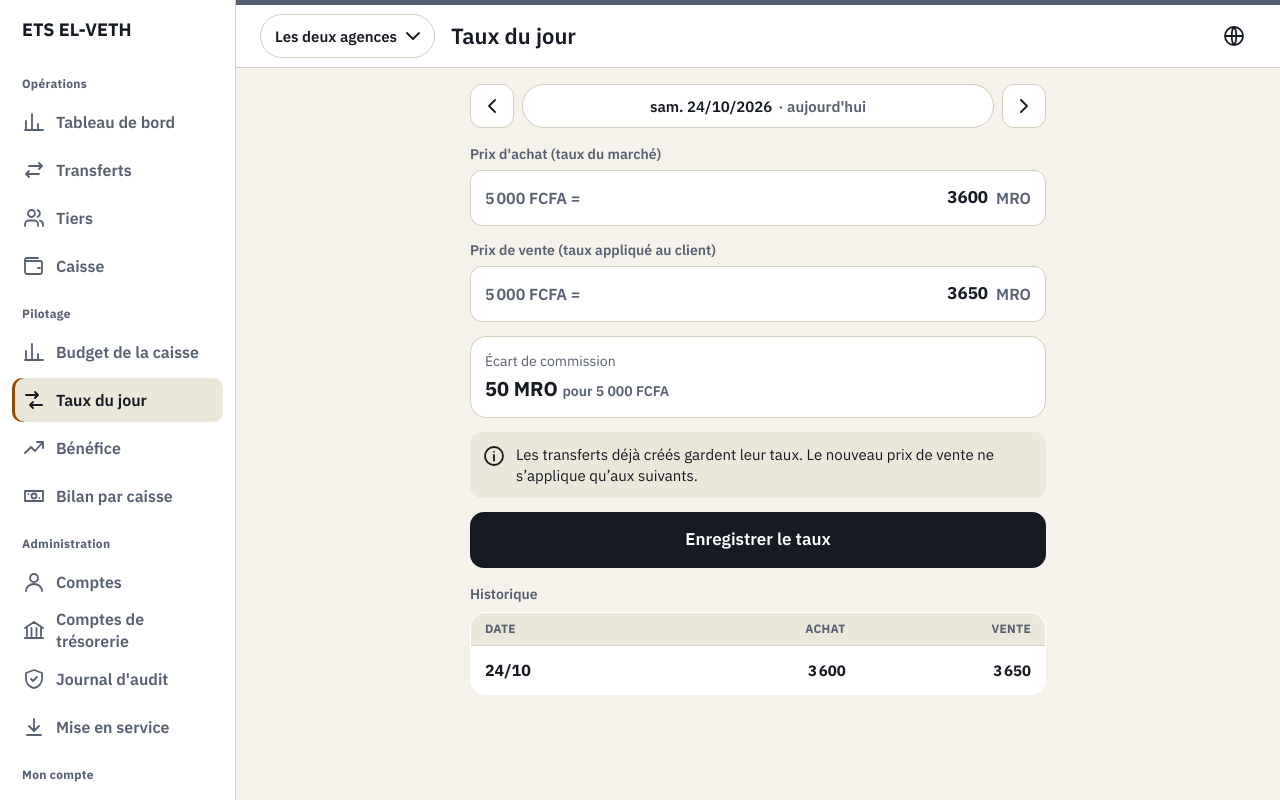
Test: Taux du jour — Superviseur › avertit sans bloquer quand le prix de vente est inférieur au prix d’achat
This screenshot has width=1280, height=800.
Replace the text in the field labelled "Prix de vente (taux appliqué au client)" with "3550": (788, 294) [588, 268, 988, 320]
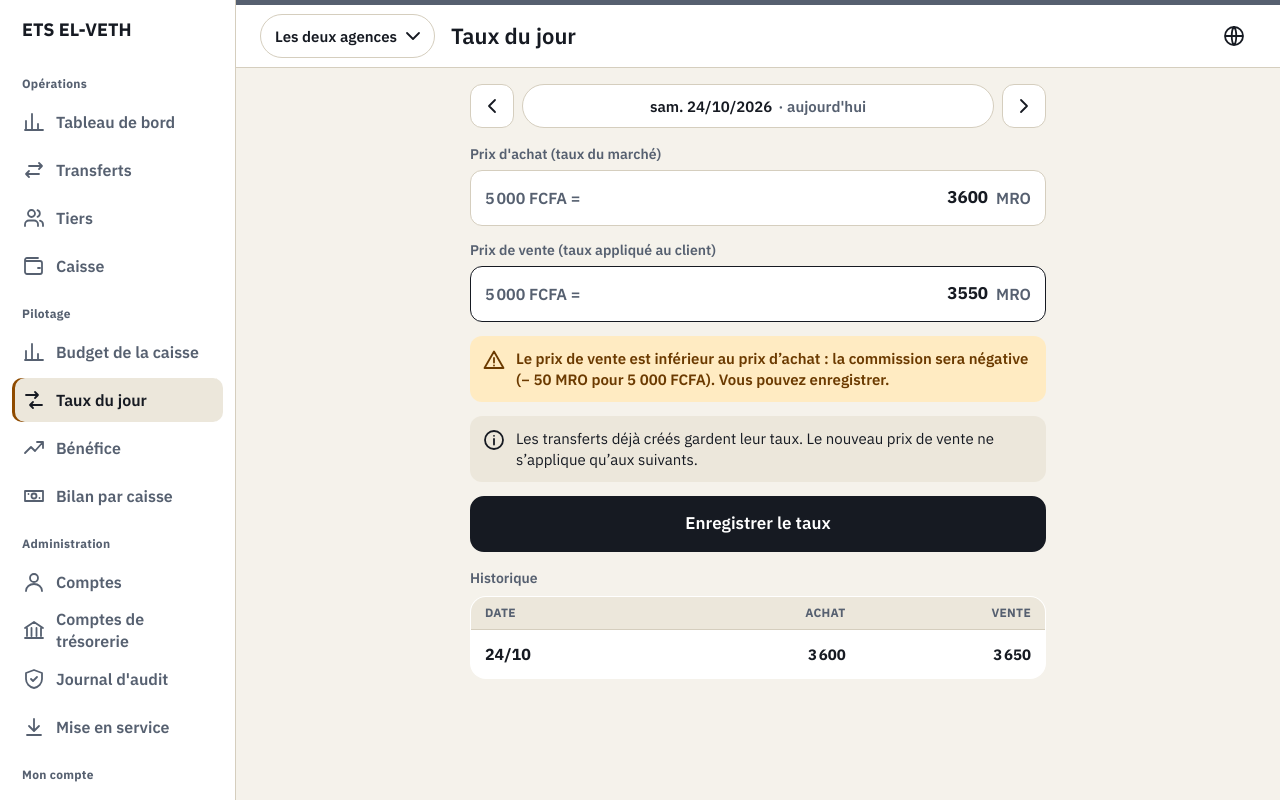
Result: the text "la commission sera négative (− 50 MRO pour 5 000 FCFA)" is shown at [516, 349, 1028, 389]
Click the button "Enregistrer le taux": (758, 524) [470, 496, 1046, 552]
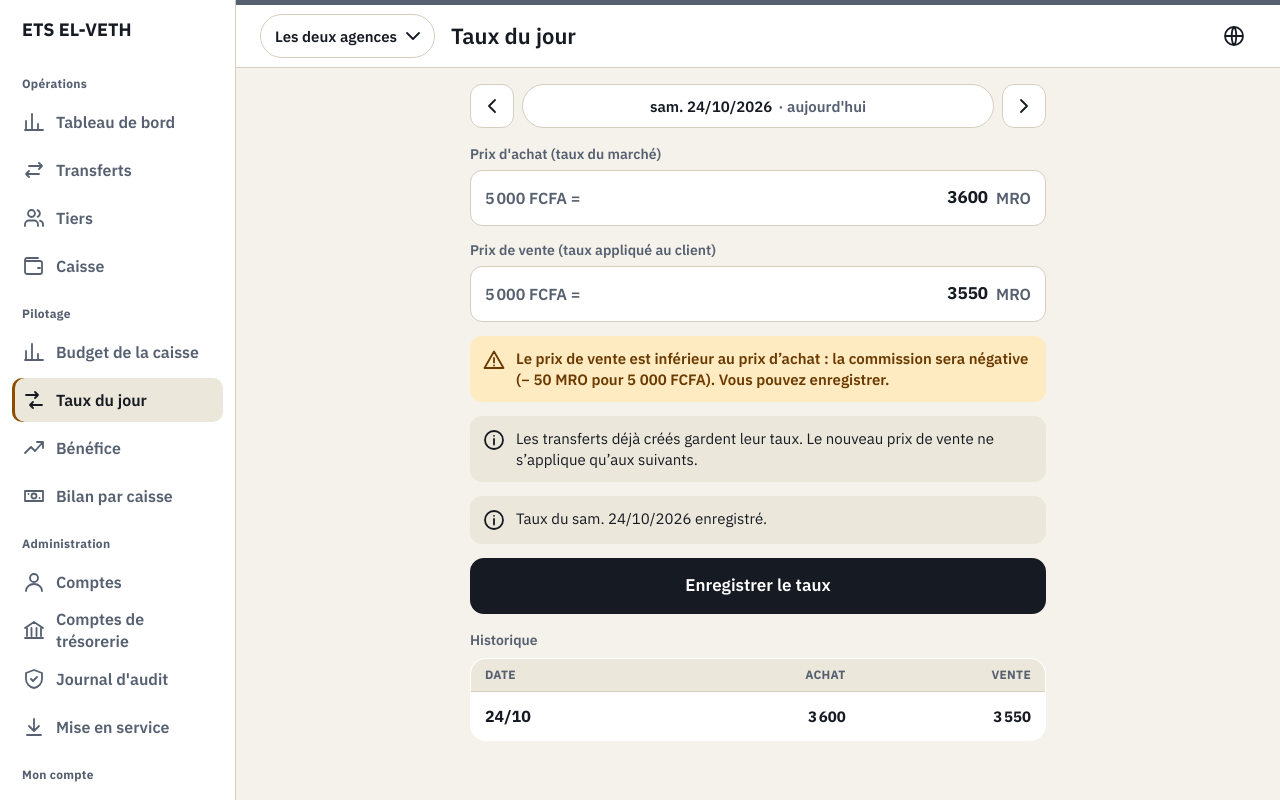
Result: the text "Taux du sam. 24/10/2026 enregistré." is shown at [516, 508, 767, 532]
